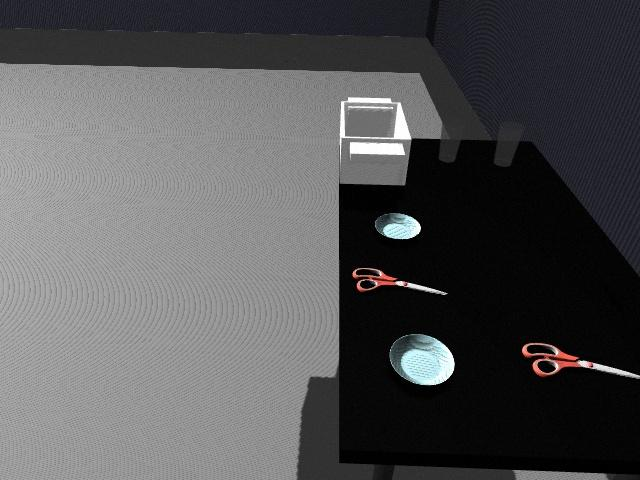cup: (494, 122, 524, 168)
plate: (388, 333, 457, 387), (374, 212, 422, 240)
scissors: (521, 341, 640, 384), (353, 265, 447, 296)
